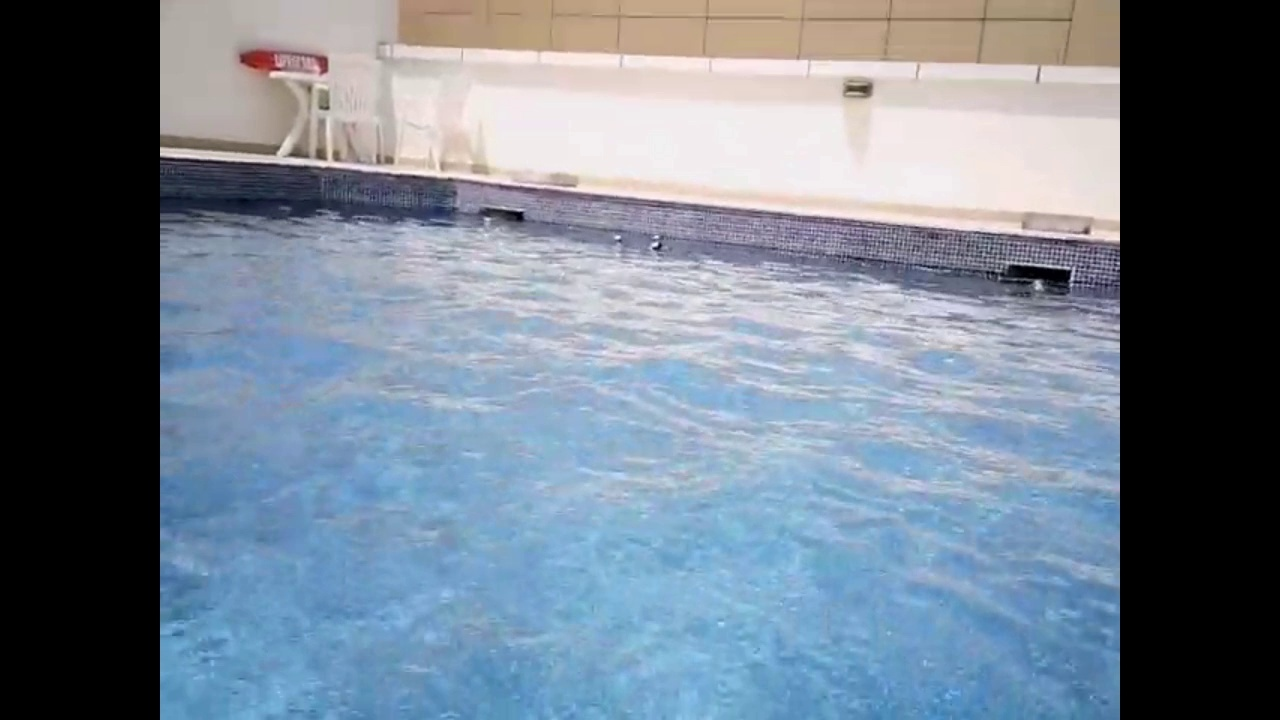debris: (1030, 273, 1048, 300), (650, 236, 665, 256), (480, 212, 493, 228), (612, 230, 625, 243)
